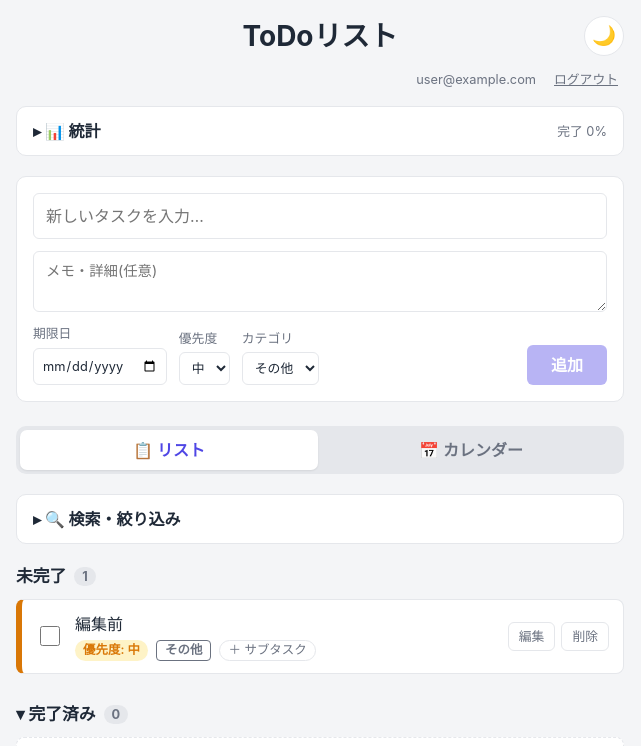
Test: ログアウト › 保存前の編集があっても、ログアウトの前に保存する
Click the text "編集前". click: (99, 624)
box: [75,614,123,634]
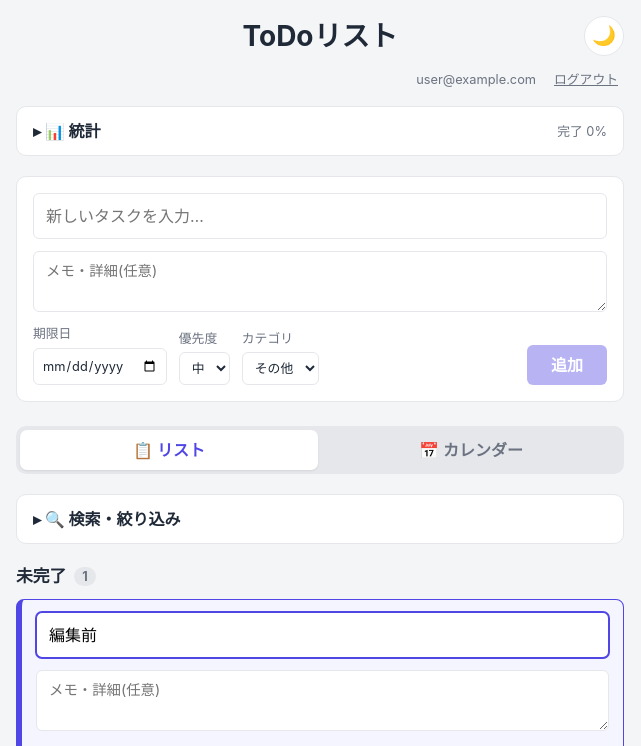
Replace the text in the field named "タスク名" with "編集後". click: (322, 635)
box: [36,612,609,658]
(page scrolled)
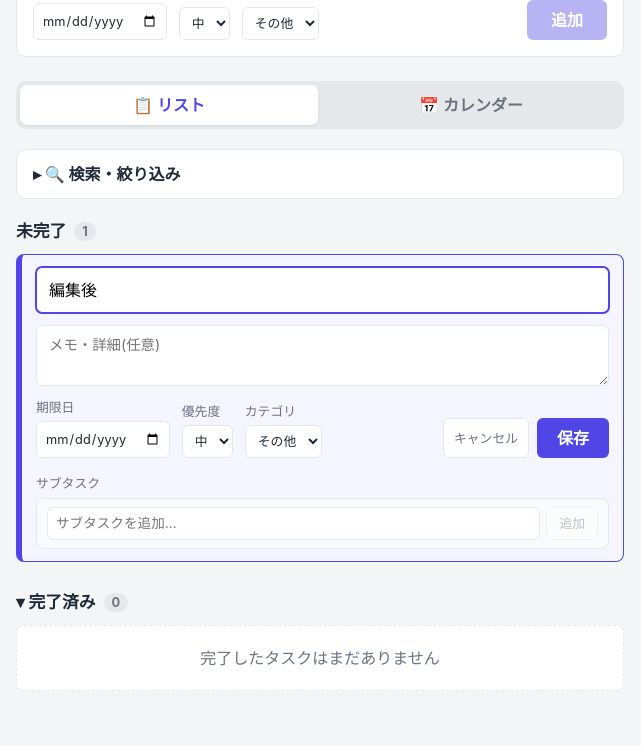
Click the button "保存". click: (573, 438)
box: [537,418,609,458]
(page scrolled)
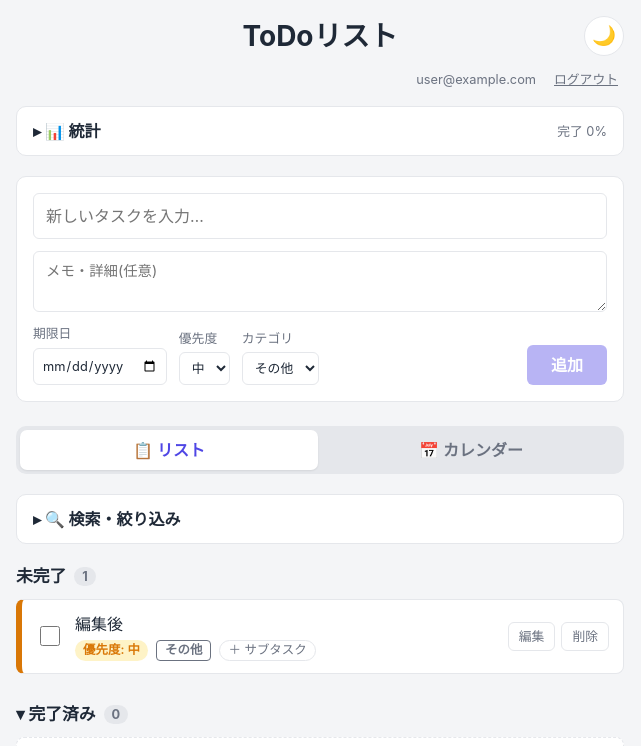
Click the button "ログアウト". click: (586, 80)
box: [548,69,624,90]
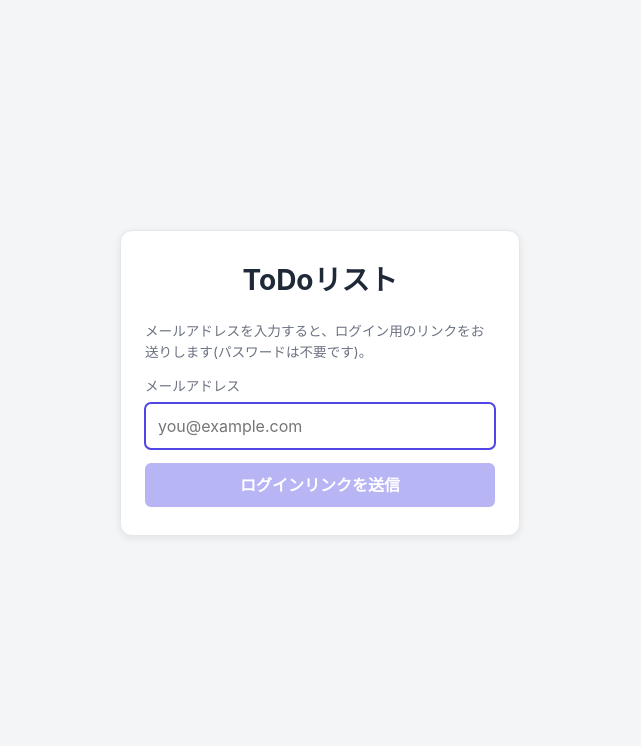
expect the field labelled "メールアドレス" is shown: met, box [145,403,495,449]
